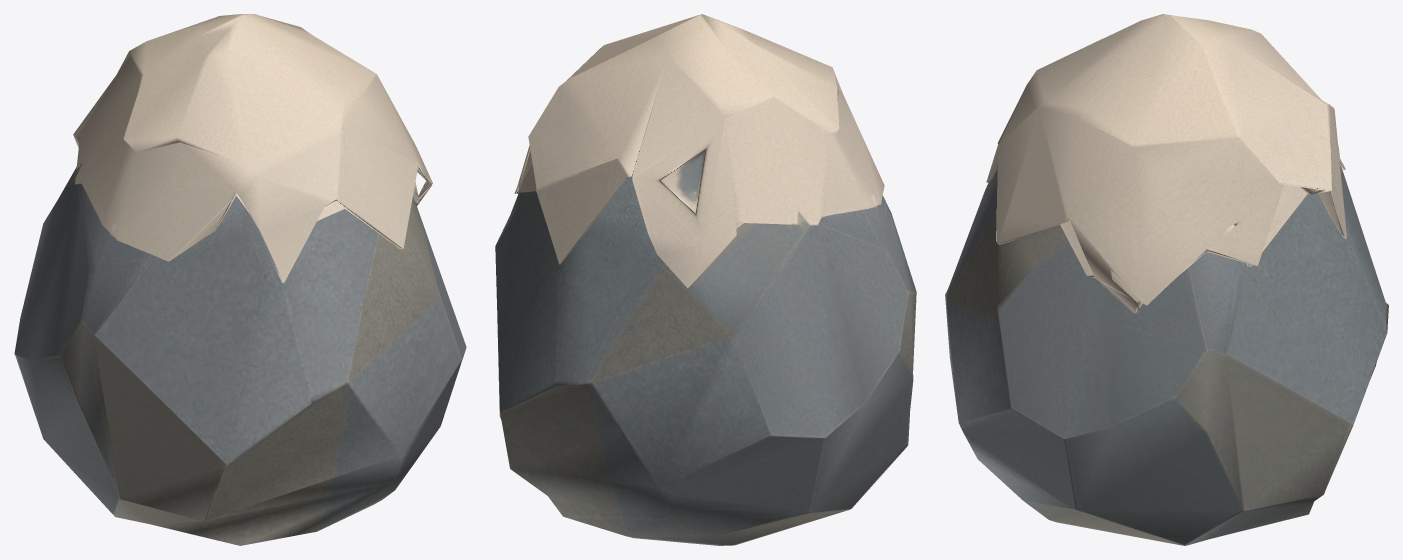
Rendered from AW-ICE-001-v0.2.glb.
3 views of the same model, side by side, from view 1: azimuth 30°, elevation 25°; view 2: azimuth 150°, elevation 25°; view 3: azimuth 270°, elevation 25° (orthographic).
Visible parts, largest first — view 1: AW-ICE-001_meter_ground_pivot; view 2: AW-ICE-001_meter_ground_pivot; view 3: AW-ICE-001_meter_ground_pivot.
Boxes of the visible parts, x1,y1,x2,y2 form: AW-ICE-001_meter_ground_pivot: (14, 14, 466, 545); AW-ICE-001_meter_ground_pivot: (495, 14, 916, 545); AW-ICE-001_meter_ground_pivot: (945, 14, 1388, 545).
Bounding box in the file's own units: 1.01 × 1.3 × 1.03.
Materials: 1 (1 with a texture image).
